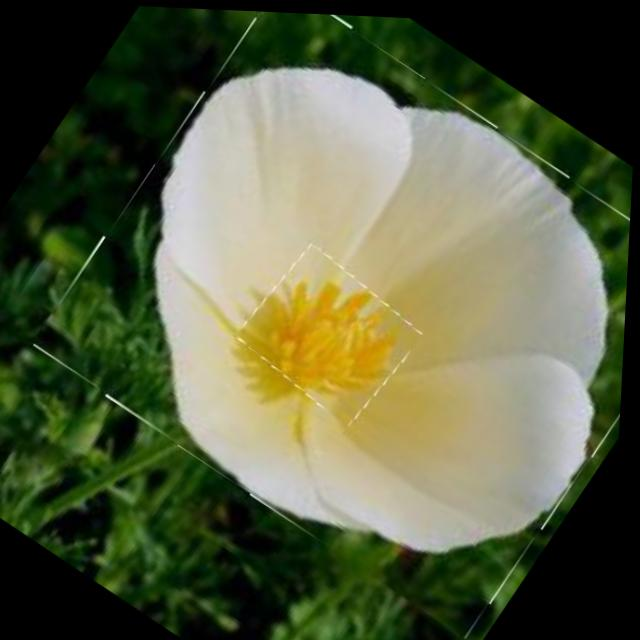Flower: (22, 2, 640, 640), (234, 238, 433, 427)
